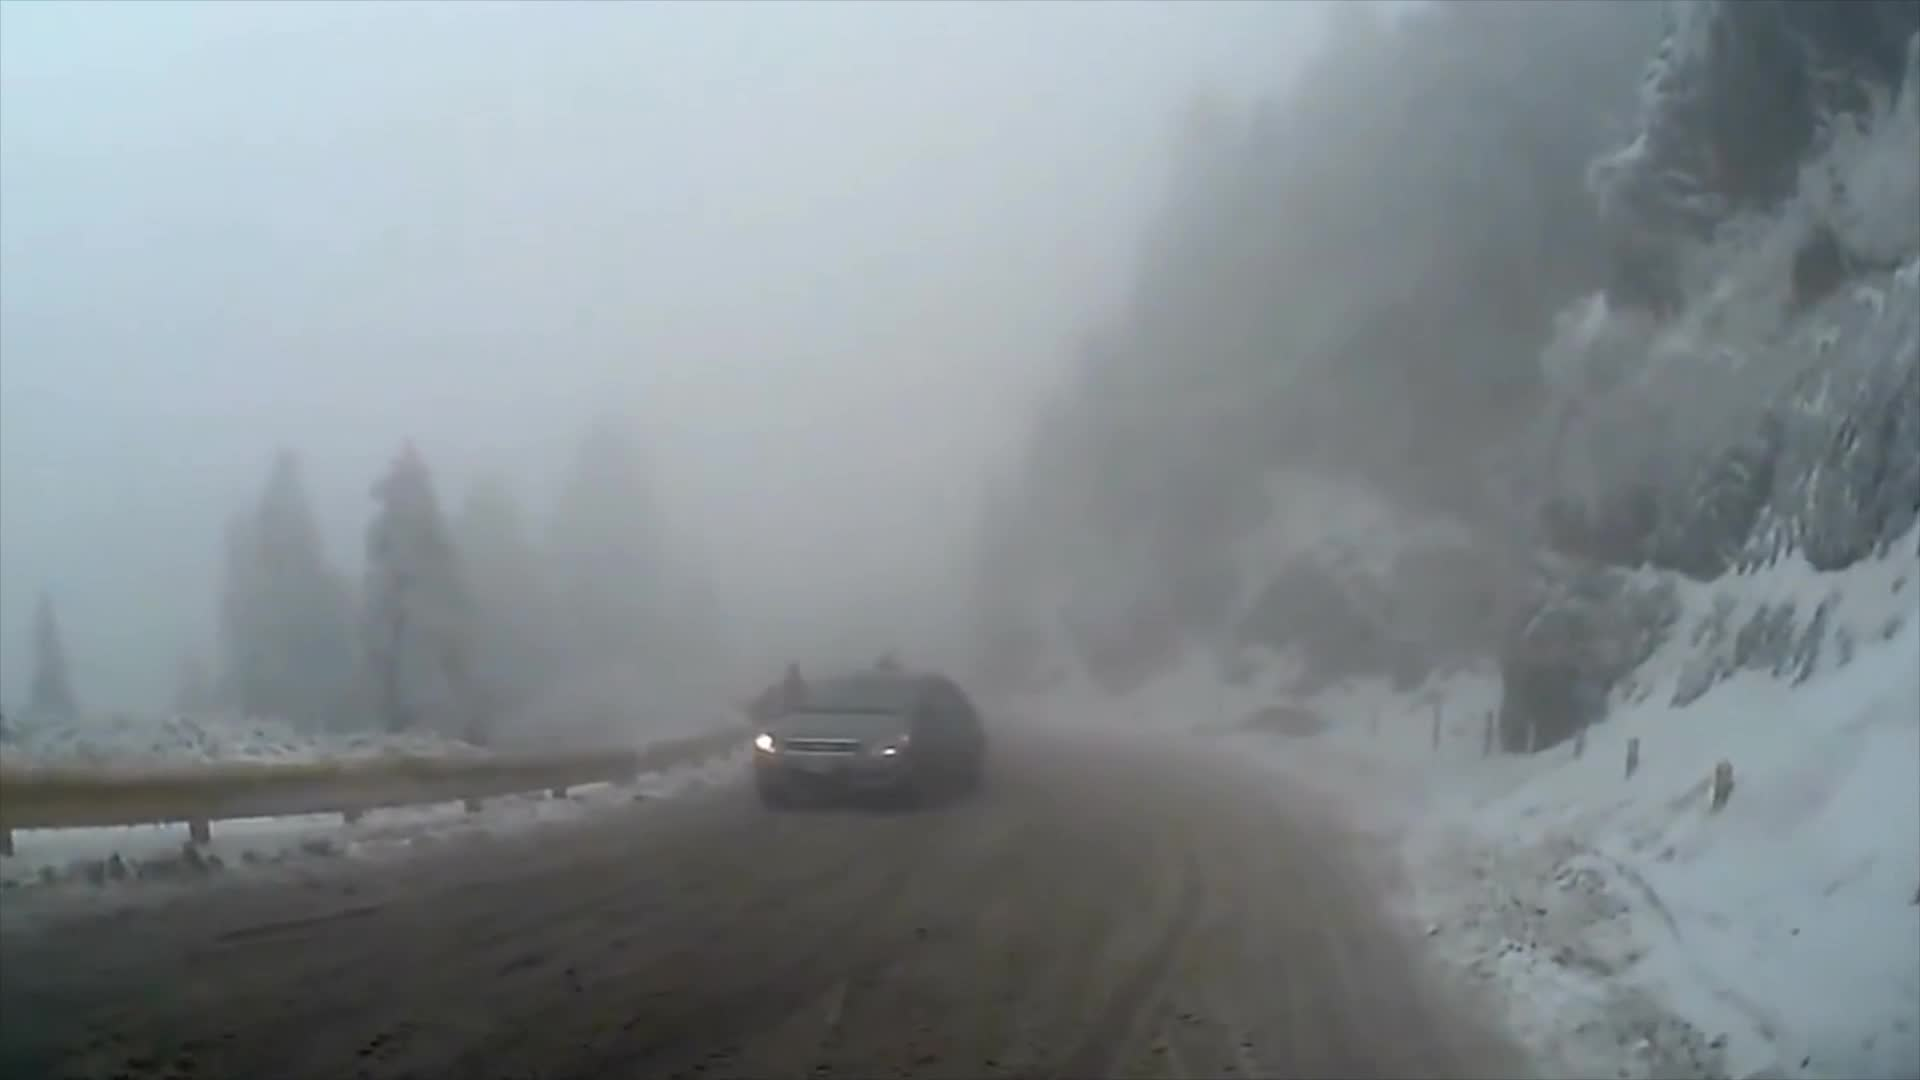vehicle: (752, 671, 986, 812)
